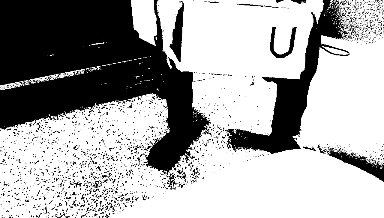U: (266, 22, 299, 60)
